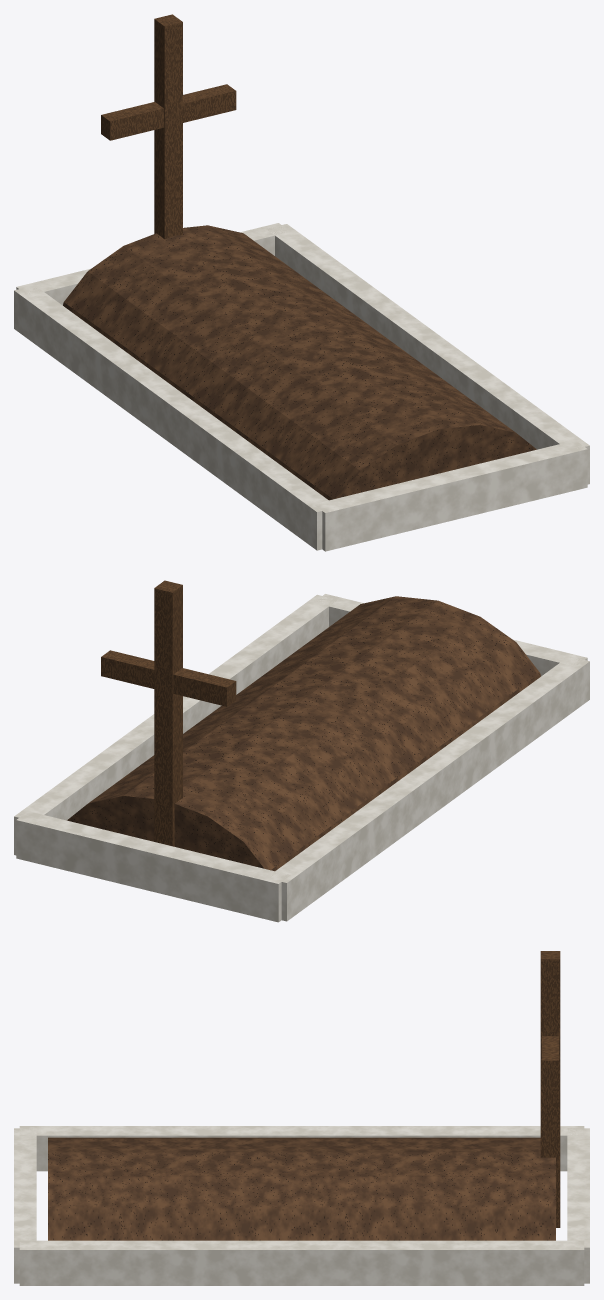
Rendered from tumba_tierra.obj.
3 views of the same model, one above another, from view 1: azimuth 30°, elevation 25°; view 2: azimuth 150°, elevation 25°; view 3: azimuth 270°, elevation 25° (orthographic). The views are drawn at different scales.
Parts seen in each view (by area): view 1: Monticulo, Cube.002, Cube, Cube.003, Cube.004, Cube.005, Cube.001; view 2: Monticulo, Cube.002, Cube.001, Cube.003, Cube.004, Cube.005, Cube; view 3: Monticulo, Cube.003, Cube.002, Cube.004, Cube, Cube.001, Cube.005.
Boxes of the visible parts, bbox=[...] form: Monticulo: bbox=[63, 225, 536, 500]; Cube.002: bbox=[14, 285, 328, 550]; Cube: bbox=[313, 440, 587, 551]; Cube.003: bbox=[266, 224, 589, 484]; Cube.004: bbox=[154, 14, 182, 239]; Cube.005: bbox=[101, 84, 236, 140]; Cube.001: bbox=[16, 223, 289, 305]; Monticulo: bbox=[67, 596, 540, 871]; Cube.002: bbox=[267, 656, 589, 921]; Cube.001: bbox=[16, 811, 290, 922]; Cube.003: bbox=[14, 594, 337, 855]; Cube.004: bbox=[154, 580, 182, 846]; Cube.005: bbox=[101, 650, 236, 706]; Cube: bbox=[313, 594, 587, 676]; Monticulo: bbox=[48, 1137, 555, 1240]; Cube.003: bbox=[19, 1240, 584, 1285]; Cube.002: bbox=[19, 1126, 584, 1171]; Cube.004: bbox=[540, 951, 560, 1227]; Cube: bbox=[14, 1128, 36, 1283]; Cube.001: bbox=[567, 1128, 589, 1283]; Cube.005: bbox=[542, 1036, 558, 1078].
Size of the model in its own units: 1.04 by 1.05 by 2.04.
Materials: 3 (3 with a texture image).
